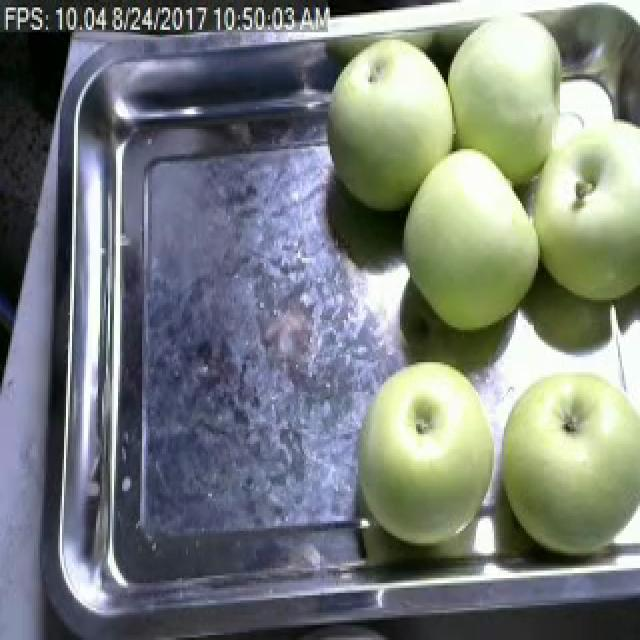50-_ripeness: (500, 372, 640, 578), (365, 351, 494, 554), (337, 16, 452, 233), (405, 152, 544, 324), (540, 120, 638, 313), (448, 0, 552, 181)
